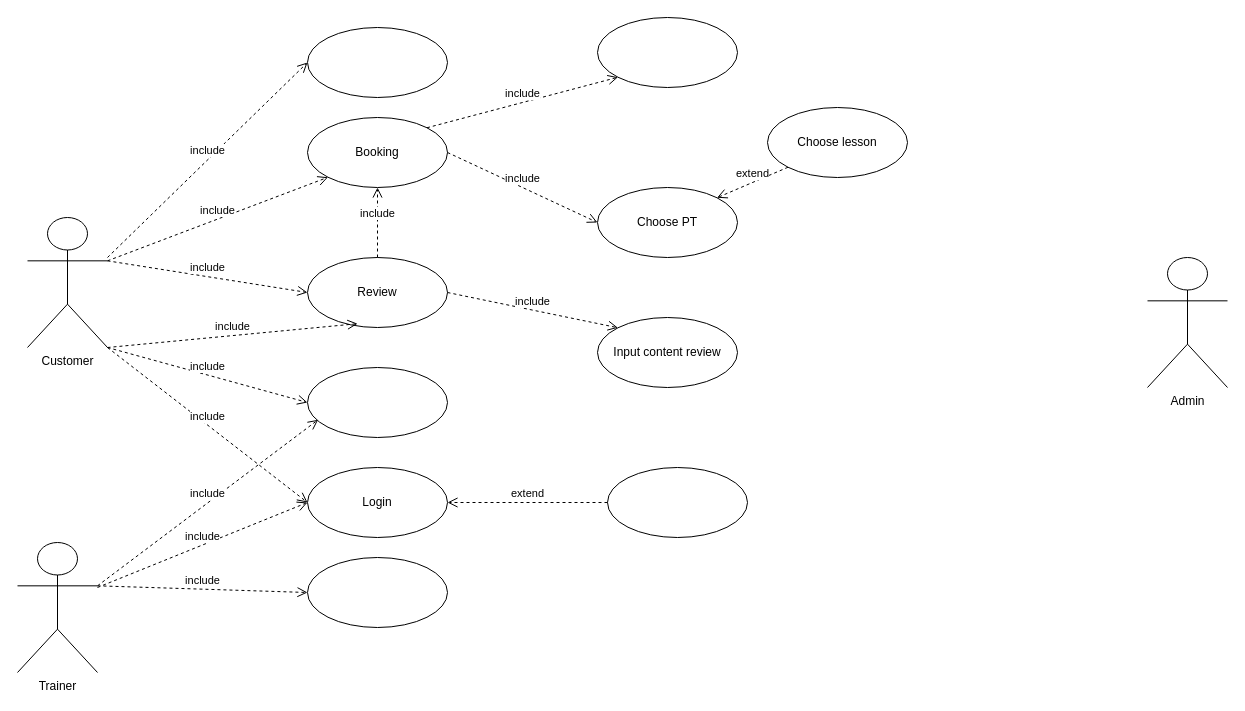
Image size: 1245x711. Some labels were removed from this diagram. The shapes that lost their labels are listed below. From the top down, each one's centre as x and y in pixels, then its label:
At pixel 377 62: "Study lesson".
At pixel 667 52: "Choose Service".
At pixel 377 402: "Chat".
At pixel 677 502: "Invalid Password".
At pixel 377 592: "Upload Lesson".
